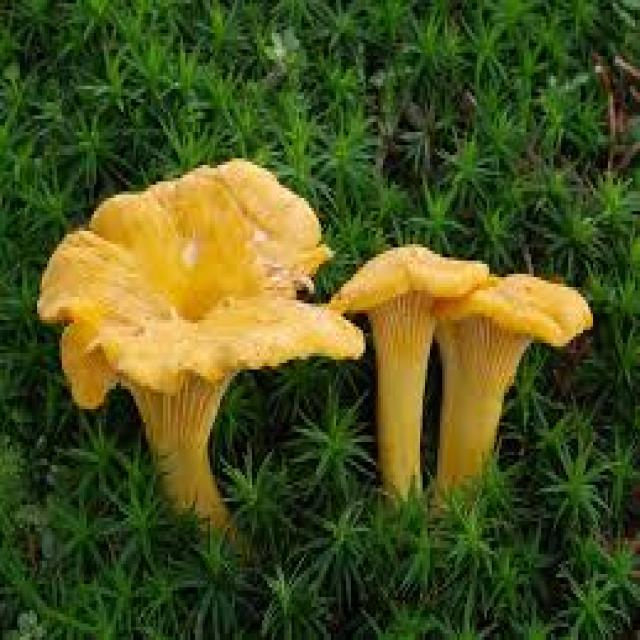chanterelle: (37, 158, 368, 538), (326, 247, 492, 498), (432, 277, 596, 488)
